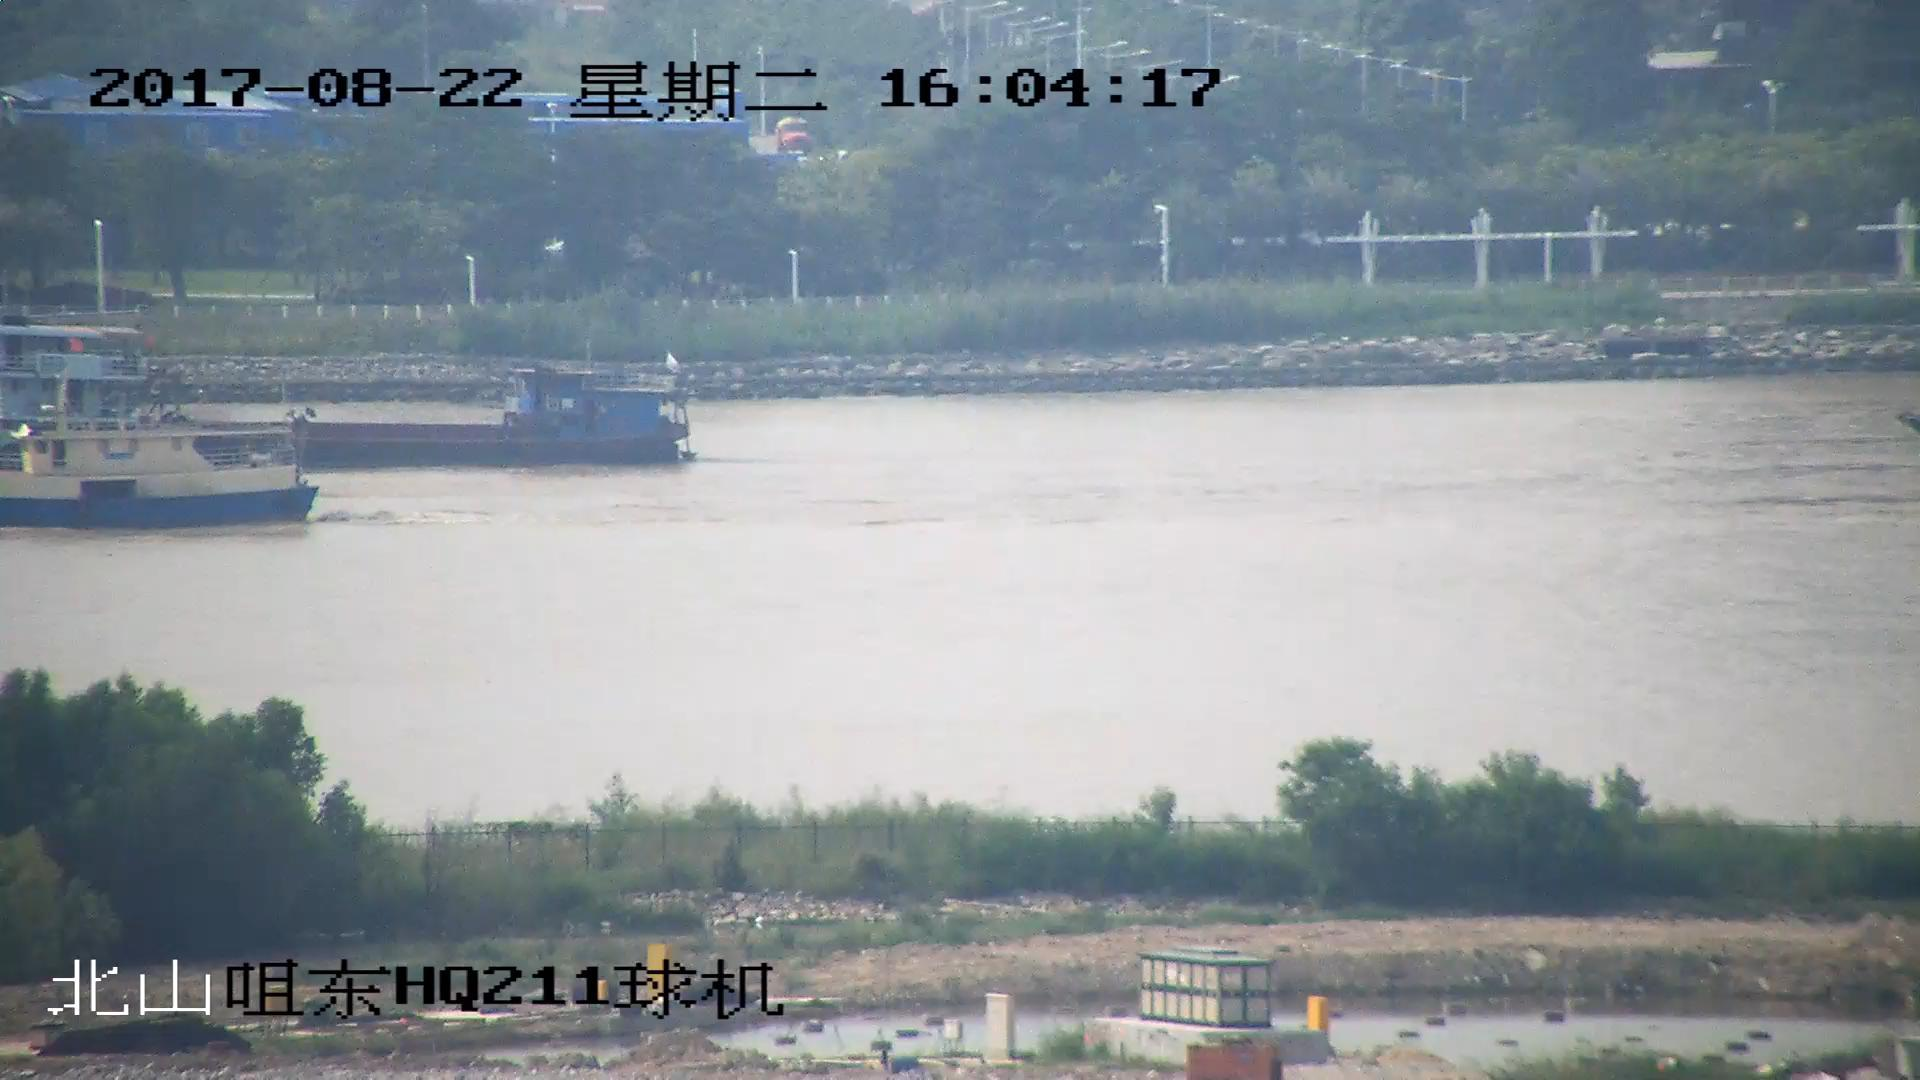Ship: (90, 359, 705, 472), (3, 342, 336, 534)
